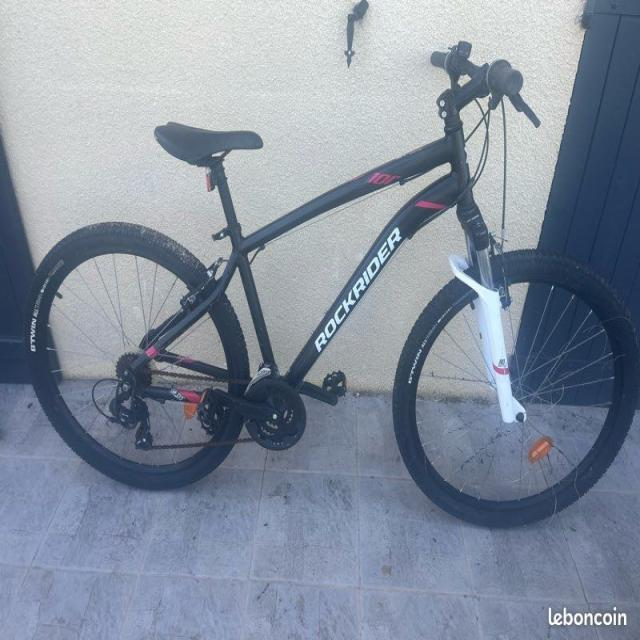Bike: (26, 40, 639, 527)
